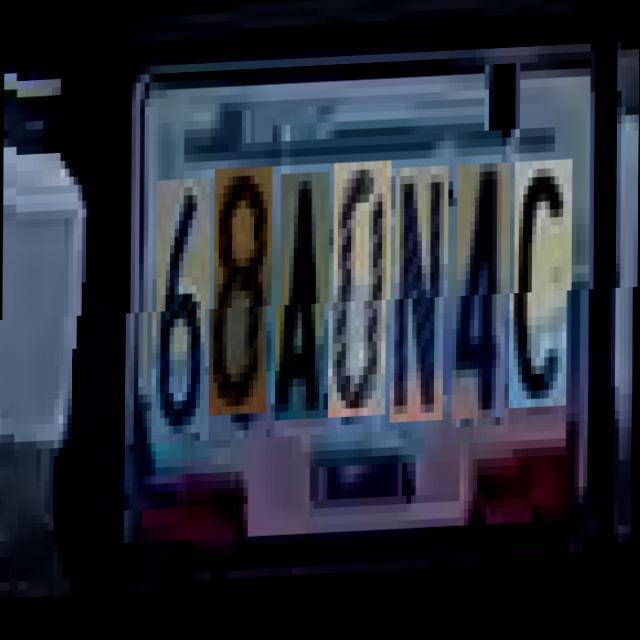0: (332, 164, 392, 421)
4: (456, 168, 511, 424)
6: (157, 180, 210, 437)
8: (214, 170, 272, 418)
A: (280, 175, 330, 424)
C: (514, 166, 572, 414)
N: (394, 170, 448, 427)
